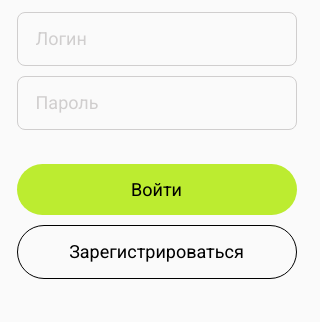
Test: Форма входа › Показывает ошибку, если почта в неверном формате
Type "user@mail" into the field labelled "Логин".
click(156, 39); type("user@mail")  # box [16, 12, 296, 66]
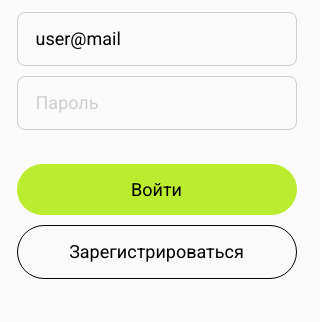
Type "Abcdef!!" into the password field labelled "Пароль".
click(156, 103); type("Abcdef!!")  # box [16, 76, 296, 130]
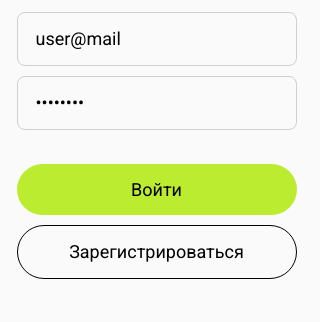
Click the button "Войти".
click(156, 190)  # box [16, 164, 296, 215]
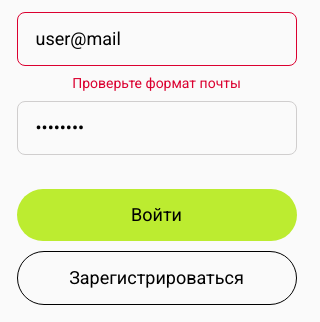
Result: the text "Проверьте формат почты" is shown at [72, 76, 241, 91]
